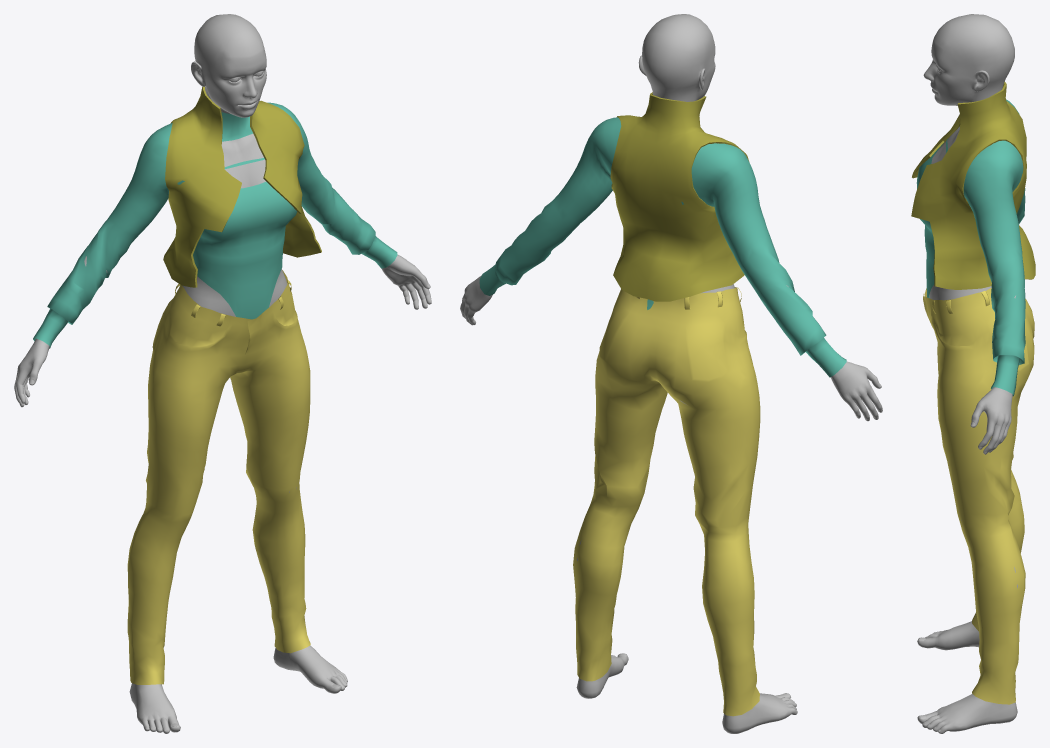
Rendered from clothes.fbx.
3 views of the same model, side by side, from view 1: azimuth 30°, elevation 25°; view 2: azimuth 150°, elevation 25°; view 3: azimuth 270°, elevation 25° (orthographic). The views are drawn at different scales.
Parts seen in each view (by area): view 1: polySurface10, polySurface15, Base_Body1, polySurface5; view 2: polySurface10, polySurface5, polySurface15, Base_Body1; view 3: polySurface10, Base_Body1, polySurface5, polySurface15.
Boxes of the visible parts, x1,y1,x2,y2 form: polySurface10: (127,270,310,684); polySurface15: (33,102,397,348); Base_Body1: (14,14,431,733); polySurface5: (163,86,321,287); polySurface10: (573,287,760,716); polySurface5: (610,92,749,301); polySurface15: (479,117,846,377); Base_Body1: (460,14,882,733); polySurface10: (923,288,1034,704); Base_Body1: (917,14,1017,733); polySurface5: (911,81,1035,289); polySurface15: (916,99,1025,396).
Bounding box in the file's own units: 109 × 171 × 28.75.
